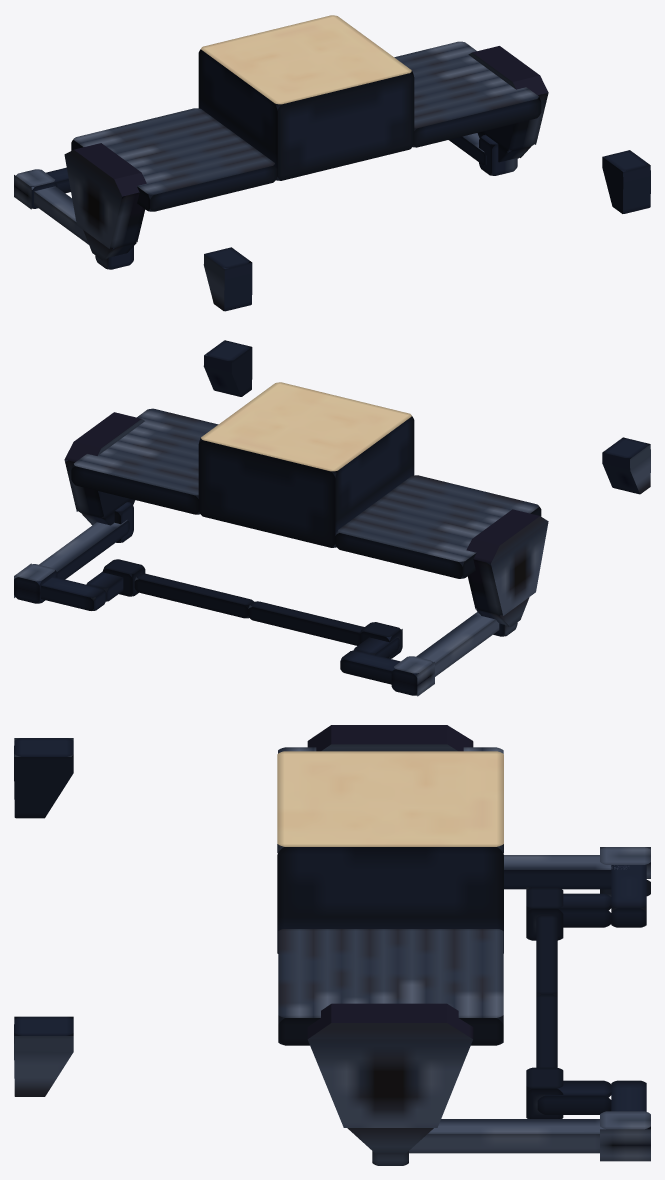
Rendered from df11g_bogey_top.obj.
The picture shows the model from 3 angles, top to bottom: view 1: azimuth 30°, elevation 25°; view 2: azimuth 150°, elevation 25°; view 3: azimuth 270°, elevation 25°; orthographic projection. The views are drawn at different scales.
Visible parts, largest first — view 1: primary_spring_selection_selection_selection; view 2: primary_spring_selection_selection_selection; view 3: primary_spring_selection_selection_selection.
Part boxes in pixels (x1=…): primary_spring_selection_selection_selection: x1=14, y1=15, x2=650, y2=311; primary_spring_selection_selection_selection: x1=14, y1=340, x2=650, y2=696; primary_spring_selection_selection_selection: x1=14, y1=725, x2=650, y2=1165.
Bounding box in the file's own units: 3.12 × 1.09 × 2.81.
